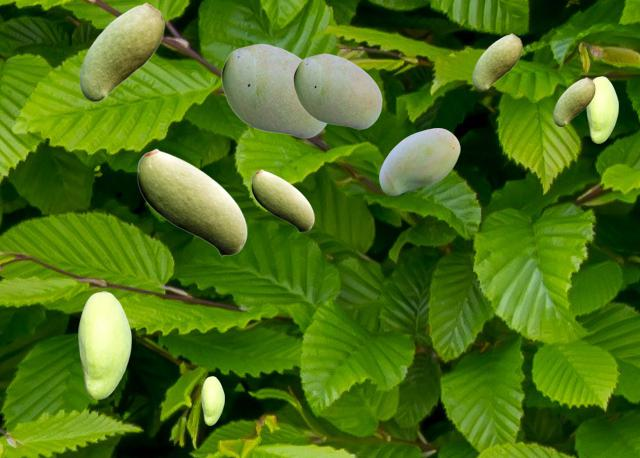green_mango: (137, 148, 246, 255), (221, 43, 326, 137), (79, 2, 163, 100), (293, 53, 381, 128), (78, 291, 130, 398), (379, 128, 459, 194), (251, 169, 313, 231), (472, 33, 521, 90), (586, 76, 617, 142), (553, 77, 594, 125), (201, 376, 223, 424)
